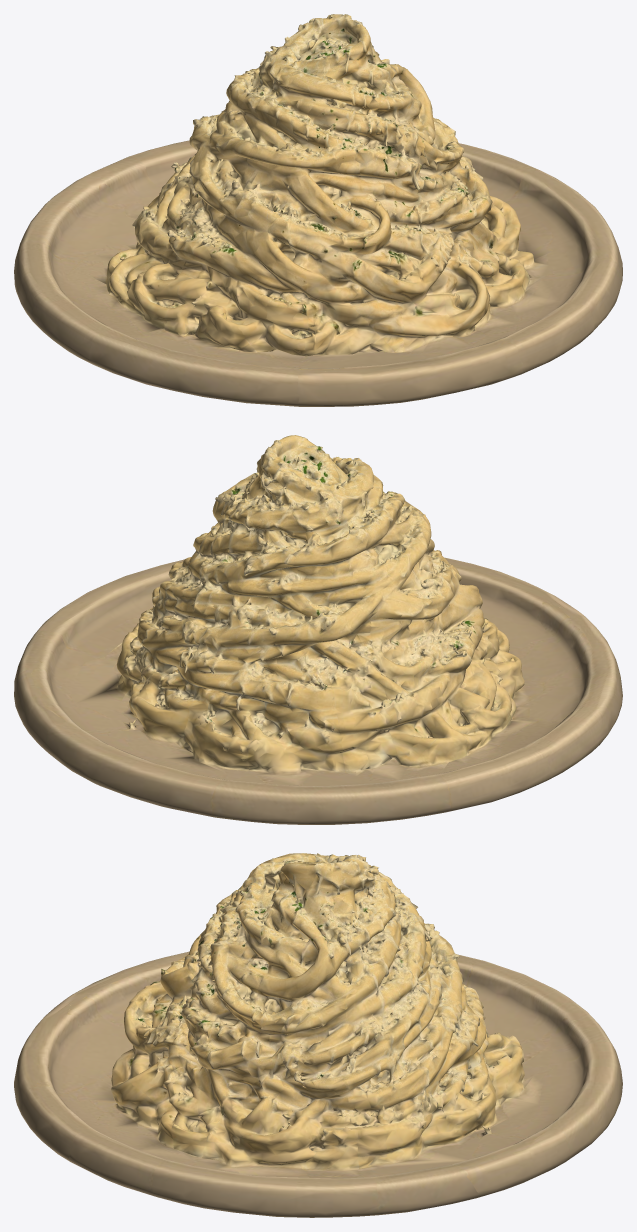
The model's file is pasta.glb.
3 renders of one model, top to bottom at view 1: azimuth 30°, elevation 25°; view 2: azimuth 150°, elevation 25°; view 3: azimuth 270°, elevation 25°, orthographic.
Parts seen in each view (by area): view 1: mesh_node; view 2: mesh_node; view 3: mesh_node.
Boxes of the visible parts, x1,y1,x2,y2 form: mesh_node: (14,14,622,406); mesh_node: (14,435,622,824); mesh_node: (14,853,622,1217).
Size of the model in its own units: 1.9 by 0.9199 by 1.9.
1 material, 1 textured.
